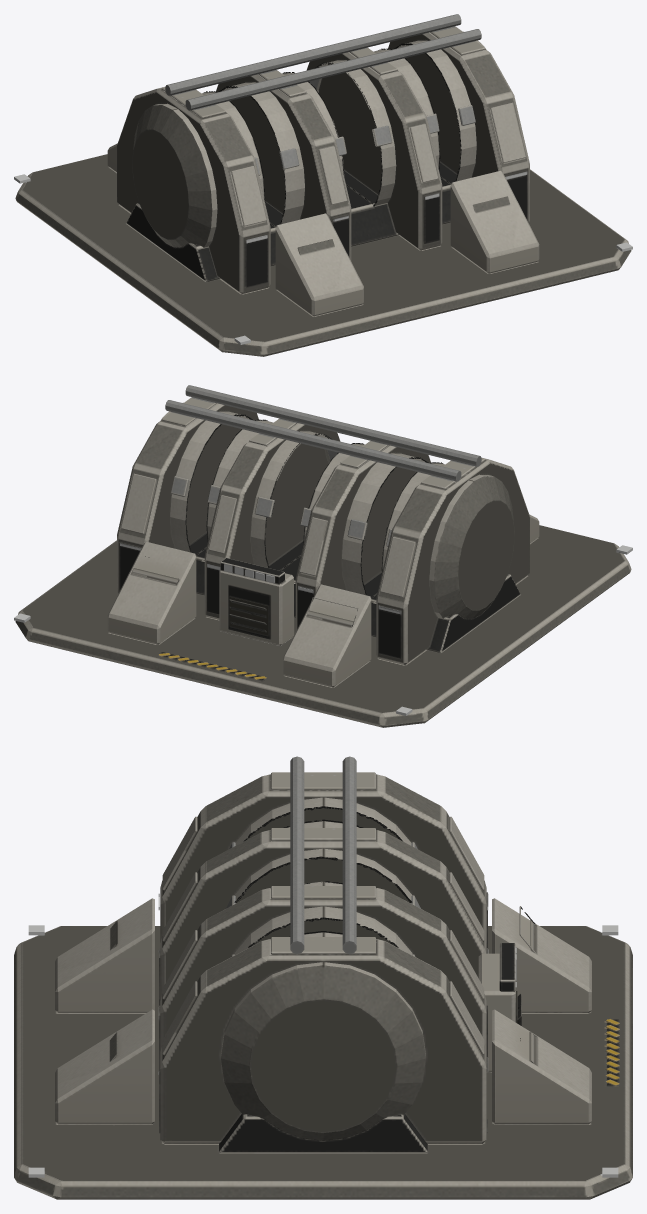
Rendered from ord_advdepot.fbx.
3 renders of one model, top to bottom at view 1: azimuth 30°, elevation 25°; view 2: azimuth 150°, elevation 25°; view 3: azimuth 270°, elevation 25°, orthographic. The views are drawn at different scales.
Parts seen in each view (by area): view 1: base_bar, base_glow_running_bar; view 2: base_bar, base_glow_running_bar; view 3: base_bar, base_glow_running_bar.
Part boxes in pixels (x1,y1,x2,y2): base_bar: (15, 14, 631, 356); base_glow_running_bar: (14, 172, 632, 344); base_bar: (15, 385, 631, 727); base_glow_running_bar: (14, 543, 632, 715); base_bar: (14, 756, 632, 1199); base_glow_running_bar: (28, 893, 618, 1177).
Size of the model in its own units: 2352 by 1128 by 2352.
2 materials, 2 textured.
